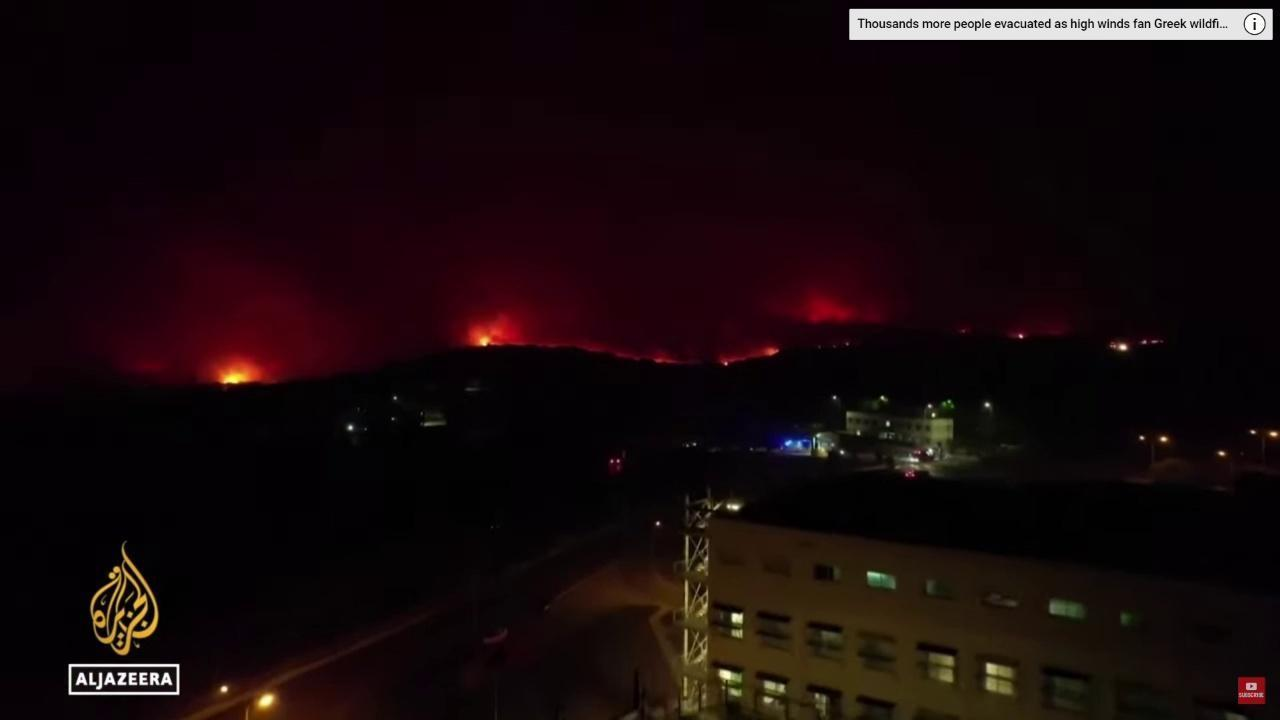fire: (217, 373, 249, 386), (478, 335, 497, 348), (723, 360, 729, 367)
smoke: (109, 184, 912, 389)
